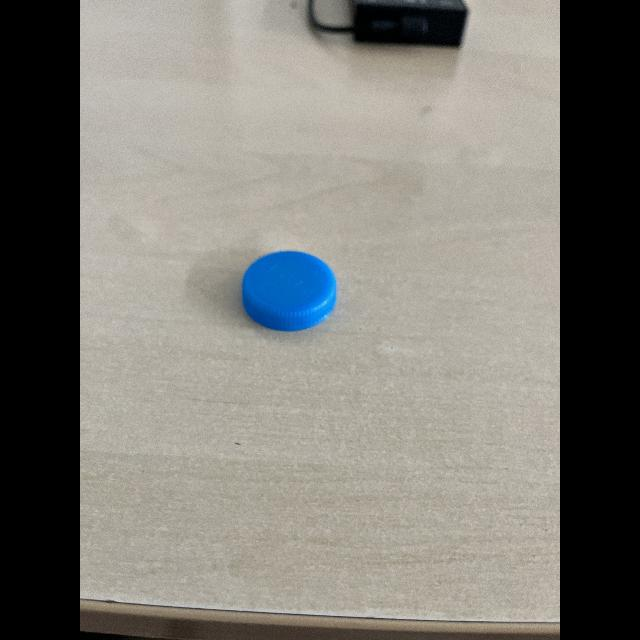plastic_bottle_cap: (238, 250, 340, 336)
